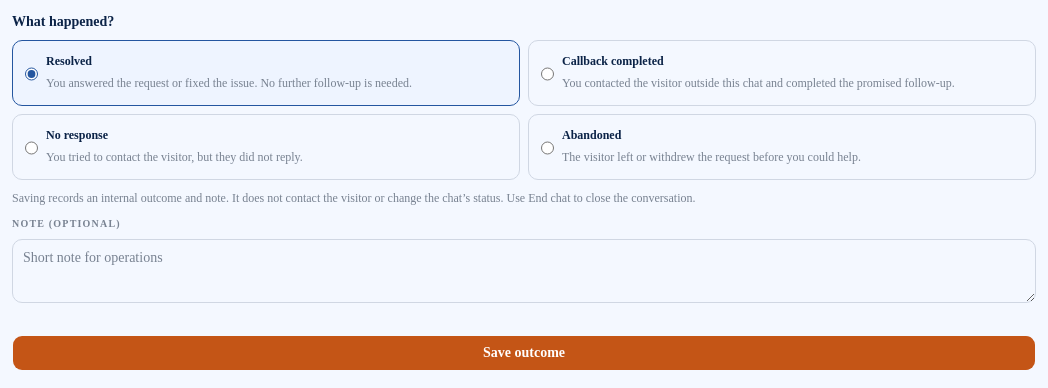
Test: handoff outcome save › shows a retry message when the outcome route is missing
Click the button "Save outcome".
click(524, 353)  # box [12, 335, 1036, 371]
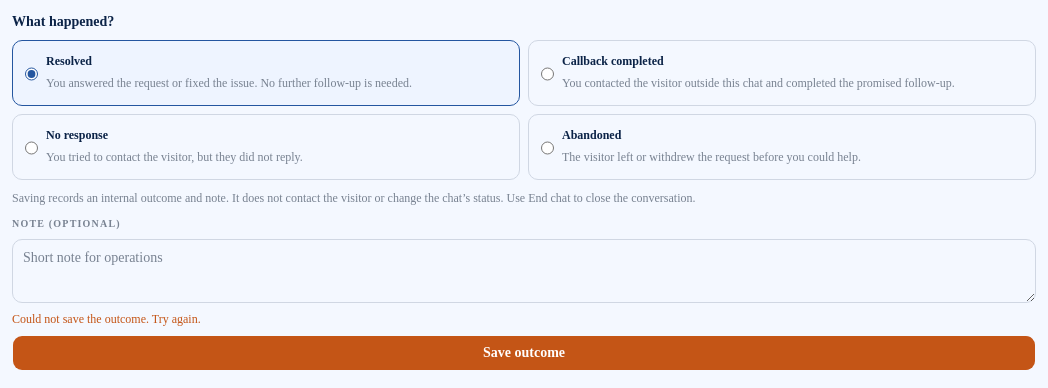
Now the message reads "Could not save the outcome. Try again.", box [12, 312, 201, 326]
